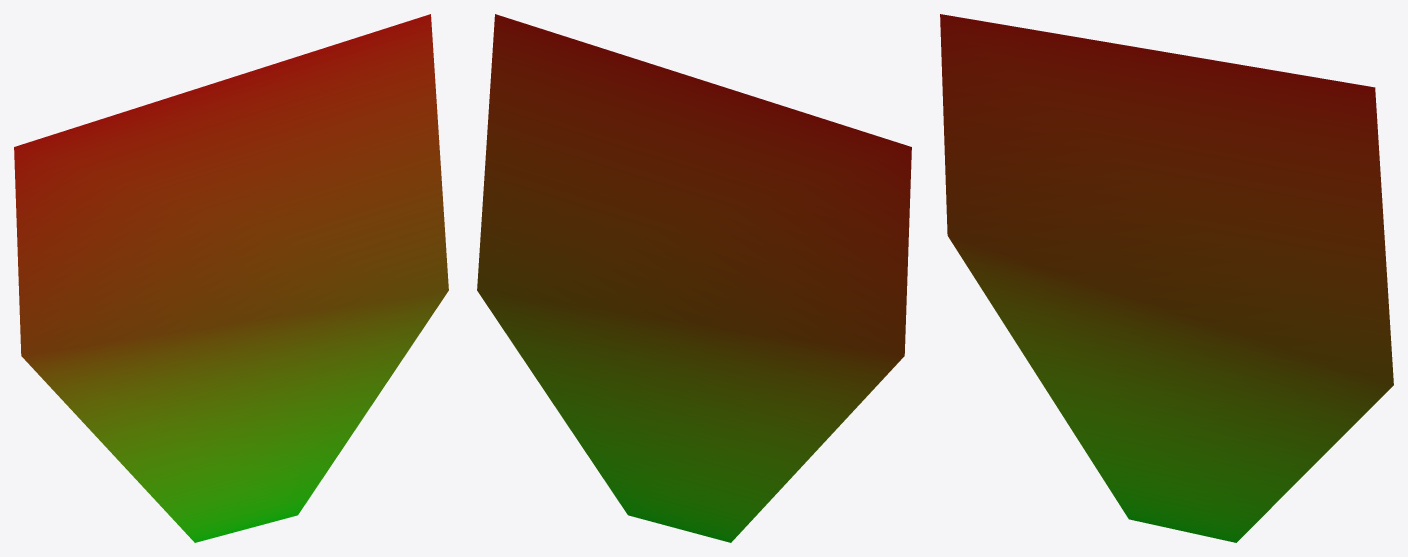
The model's file is Chamomile_LOD4_Var9.fbx.
The picture shows the model from 3 angles, left to right: view 1: azimuth 30°, elevation 25°; view 2: azimuth 150°, elevation 25°; view 3: azimuth 330°, elevation 25°; orthographic projection. The views are drawn at different scales.
Visible parts, largest first — view 1: _6dhc_Var9_LOD4; view 2: _6dhc_Var9_LOD4; view 3: _6dhc_Var9_LOD4.
Part boxes in pixels (x1,y1,x2,y2): _6dhc_Var9_LOD4: (14, 14, 448, 542); _6dhc_Var9_LOD4: (477, 14, 911, 542); _6dhc_Var9_LOD4: (940, 14, 1393, 542).
Size of the model in its own units: 21.73 by 22.51 by 2.68e-06.
